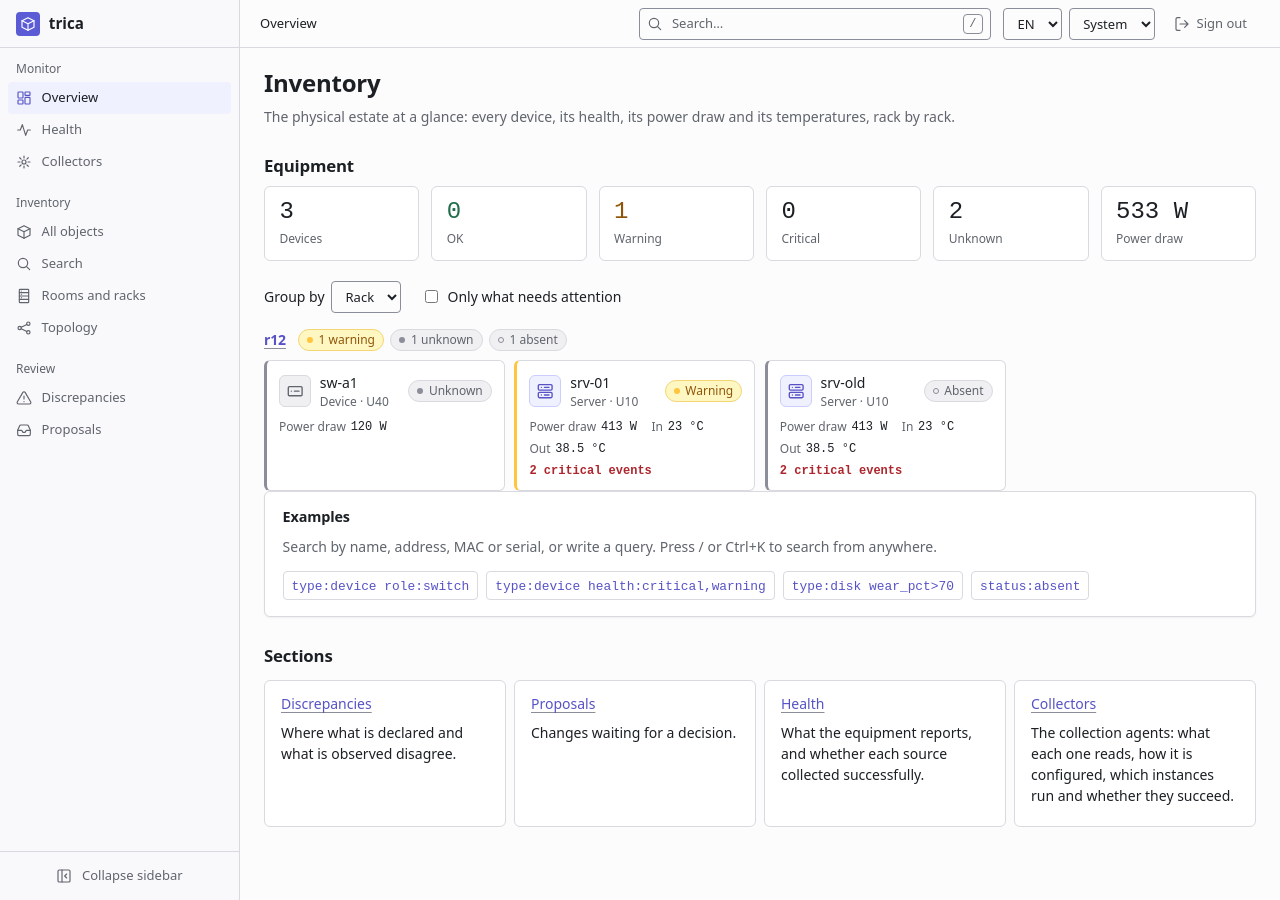
Test case: all objects › is in the menu and leads to the list
Click the link "All objects": (60, 231) [16,222,104,240]
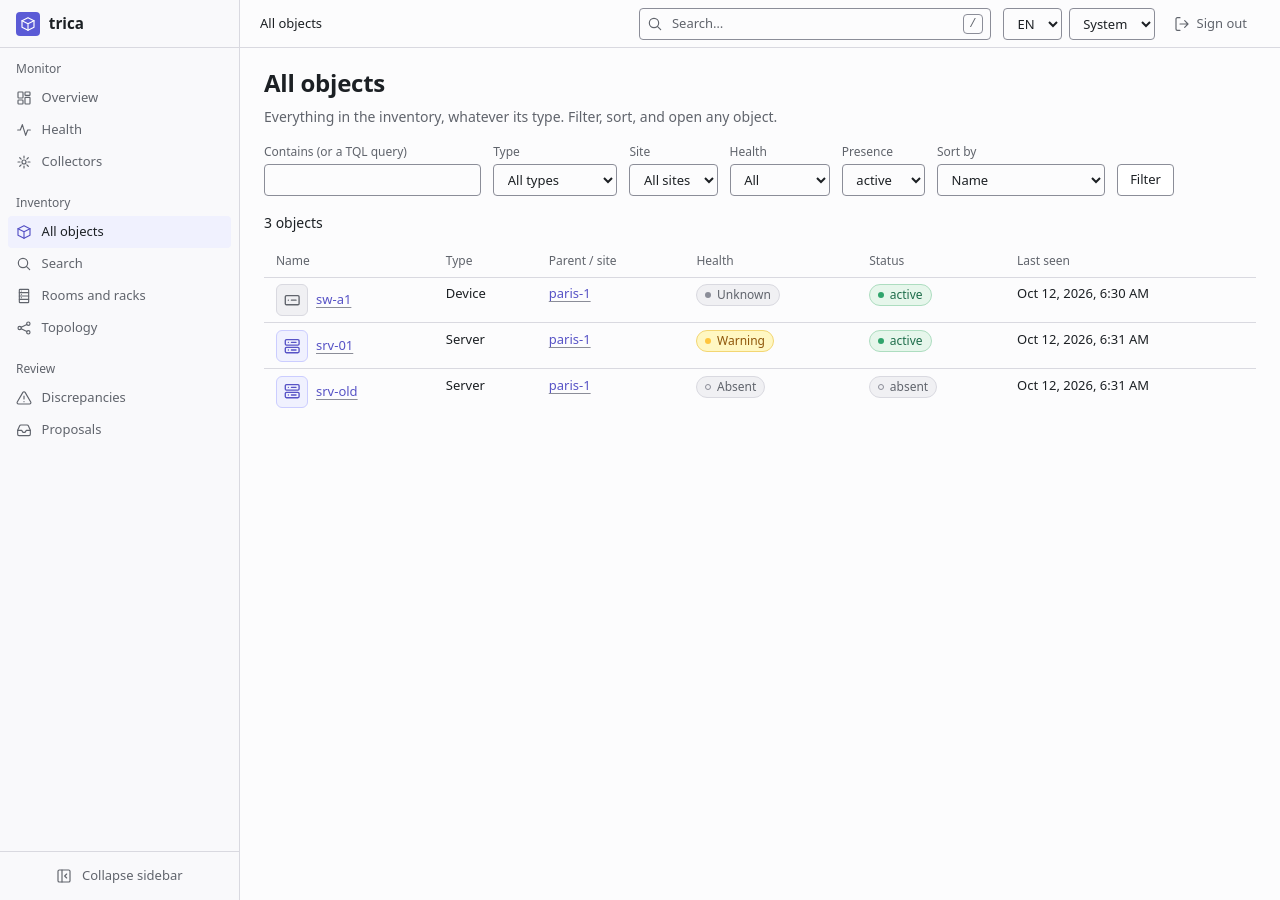
Now the heading "All objects" is shown, box [264,66,385,99]
